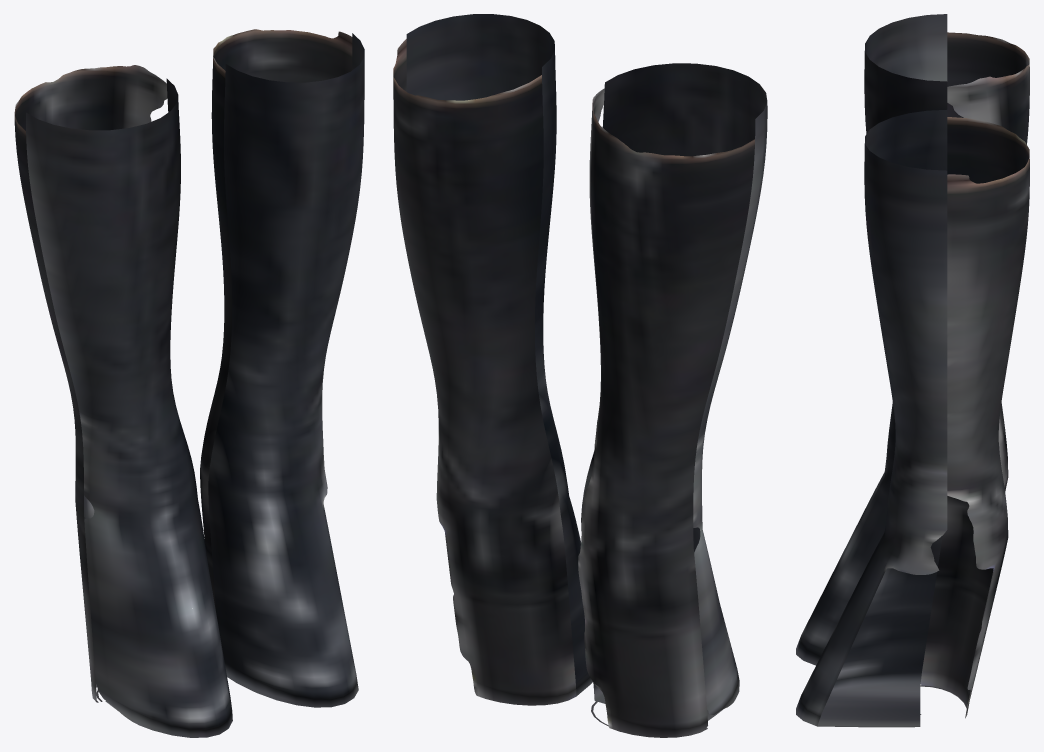
Rendered from prod-ae-meotina-leather-boots.glb.
3 views of the same model, side by side, from view 1: azimuth 30°, elevation 25°; view 2: azimuth 150°, elevation 25°; view 3: azimuth 270°, elevation 25° (orthographic). The views are drawn at different scales.
Visible parts, largest first — view 1: prod-ae-meotina-leather-boots; view 2: prod-ae-meotina-leather-boots; view 3: prod-ae-meotina-leather-boots.
Boxes of the visible parts, x1,y1,x2,y2 form: prod-ae-meotina-leather-boots: [14, 29, 364, 737]; prod-ae-meotina-leather-boots: [393, 14, 767, 737]; prod-ae-meotina-leather-boots: [796, 14, 1029, 727].
Size of the model in its own units: 0.2421 by 0.4235 by 0.1528.
1 material, 1 textured.
